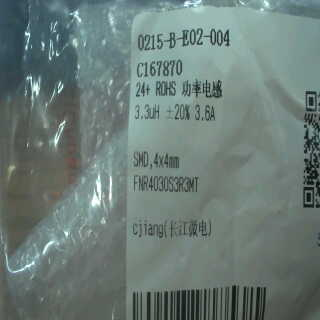3.3uH: (127, 100, 167, 124)
